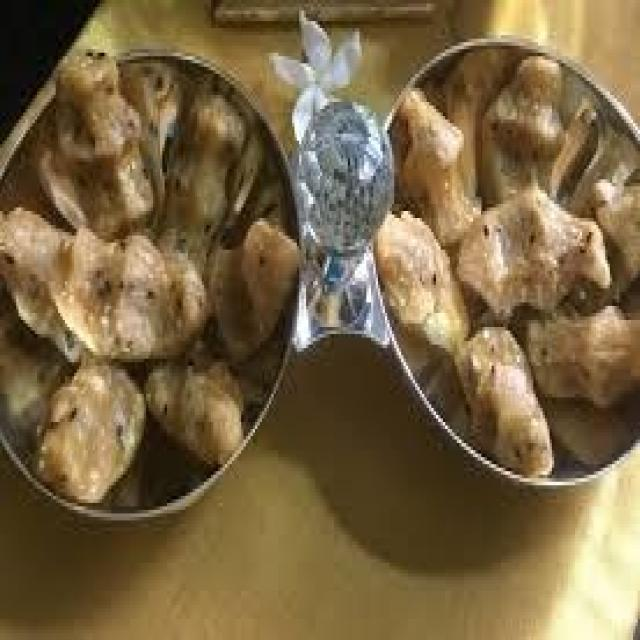pidi kolukattai: (0, 36, 292, 500), (366, 0, 639, 492)
